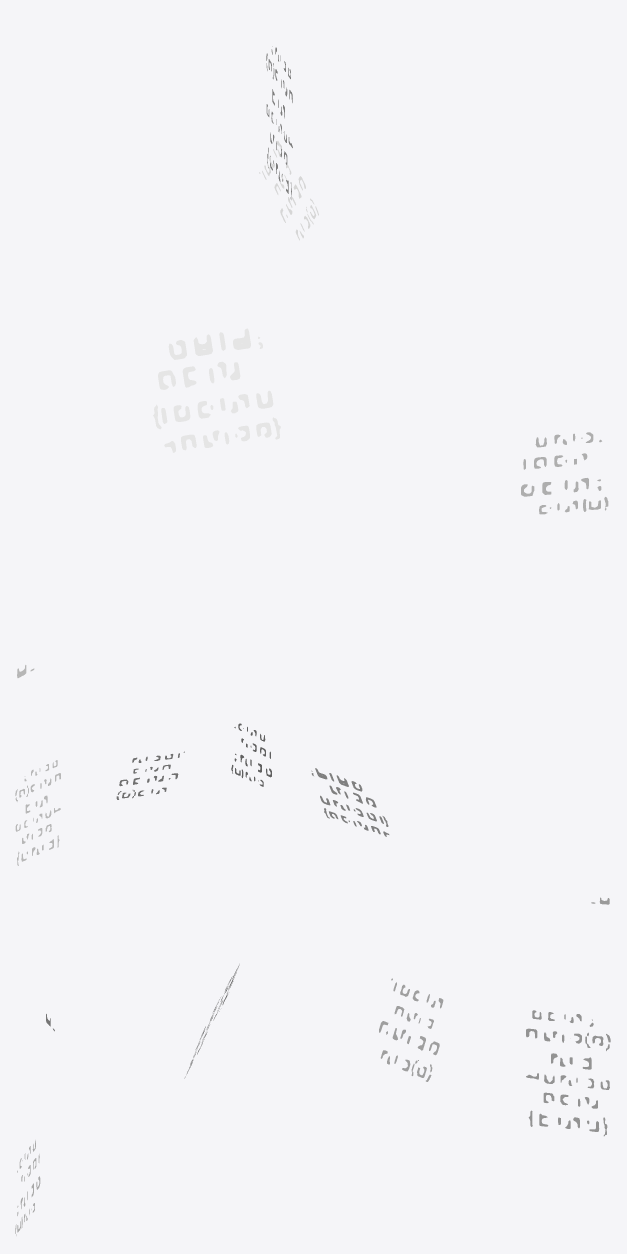
The model's file is mud_paneru_skurin_01.fbx.
3 views of the same model, one above another, from view 1: azimuth 30°, elevation 25°; view 2: azimuth 150°, elevation 25°; view 3: azimuth 270°, elevation 25° (orthographic). The views are drawn at different scales.
Parts seen in each view (by area): view 1: mud_paneru_skurin_01; view 2: mud_paneru_skurin_01; view 3: mud_paneru_skurin_01.
Boxes of the visible parts, bbox=[...] form: mud_paneru_skurin_01: bbox=[17, 46, 608, 677]; mud_paneru_skurin_01: bbox=[15, 723, 609, 904]; mud_paneru_skurin_01: bbox=[15, 964, 610, 1235].
Bounding box in the file's own units: 504 × 252 × 499.
1 material, 1 textured.
